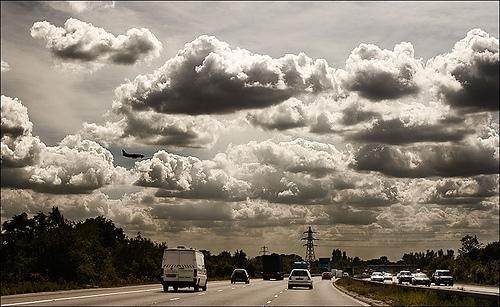car: (288, 269, 314, 290), (231, 270, 249, 284), (413, 273, 430, 283), (370, 272, 384, 282), (322, 272, 332, 280), (384, 272, 392, 280), (362, 272, 366, 276), (344, 274, 348, 276)
truck: (160, 245, 208, 292), (263, 255, 285, 280), (434, 270, 454, 286), (396, 271, 414, 284), (369, 272, 385, 282), (319, 258, 330, 272), (292, 262, 308, 268), (335, 270, 344, 279)
